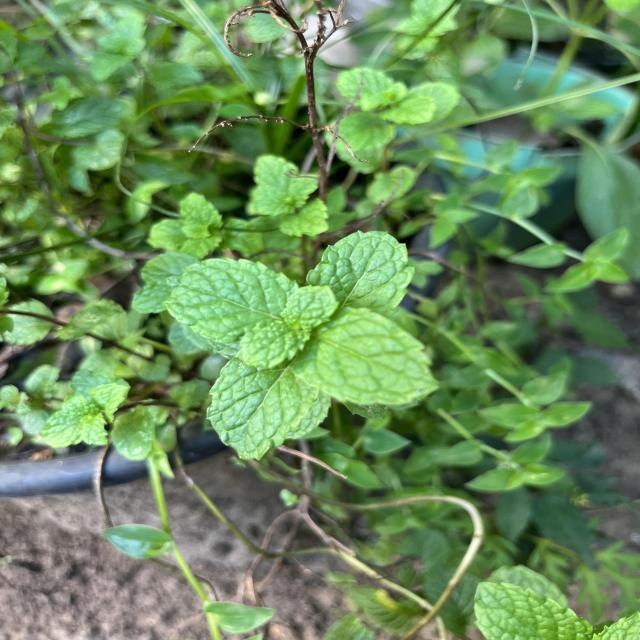Mentha spicata: (291, 306, 442, 406), (205, 354, 320, 462), (164, 254, 292, 346), (306, 226, 416, 315)
